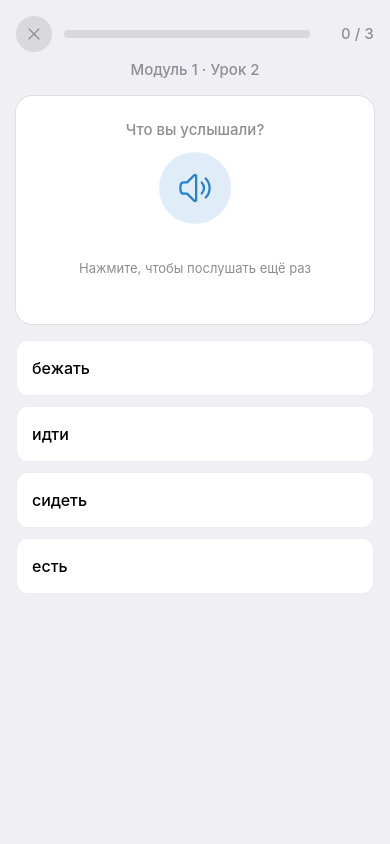
Scenario: TrainingView — exercises › four-choice exercises: the grade goes at the pick, the next card is held back › a wrong audio pick is sent at once and waits for "Next" as well
The width and height of the screenshot is (390, 844).
Step 1. Click the button with test id "option-0" → point(61, 368), box [16,340,374,396]
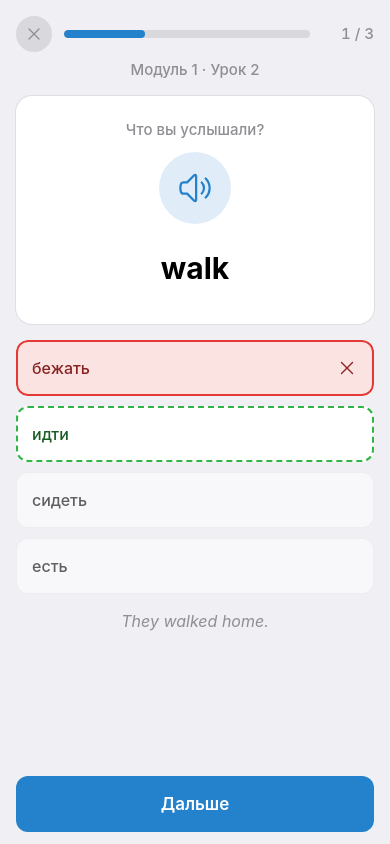
Check: the heading with test id "word" reads "walk", box [161,250,229,286]
Step 2. Click the button with test id "continue-btn" → point(195, 804), box [16,776,374,832]
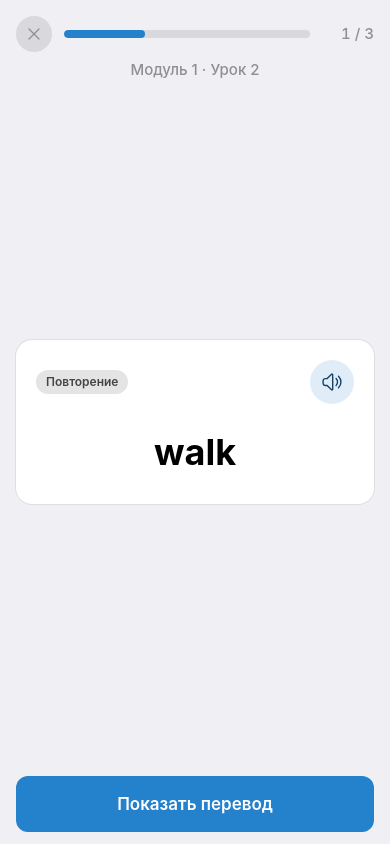
Check: the element with test id "flashcard" is shown
